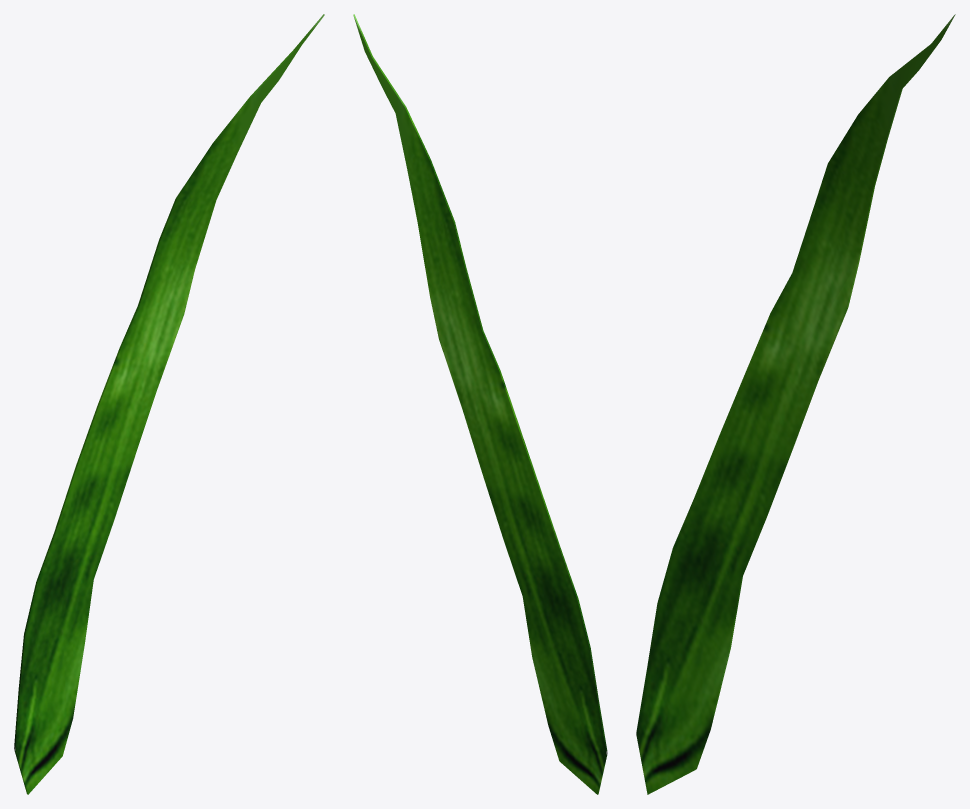
File: bamboo2.fbx
The picture shows the model from 3 angles, left to right: view 1: azimuth 30°, elevation 25°; view 2: azimuth 150°, elevation 25°; view 3: azimuth 330°, elevation 25°; orthographic projection. The views are drawn at different scales.
Visible parts, largest first — view 1: polySurface3; view 2: polySurface3; view 3: polySurface3.
Boxes of the visible parts, x1,y1,x2,y2 form: polySurface3: [14, 14, 324, 794]; polySurface3: [353, 14, 607, 794]; polySurface3: [636, 14, 955, 794].
Bounding box in the file's own units: 10.03 × 24.36 × 1.75.
Materials: 1 (1 with a texture image).
